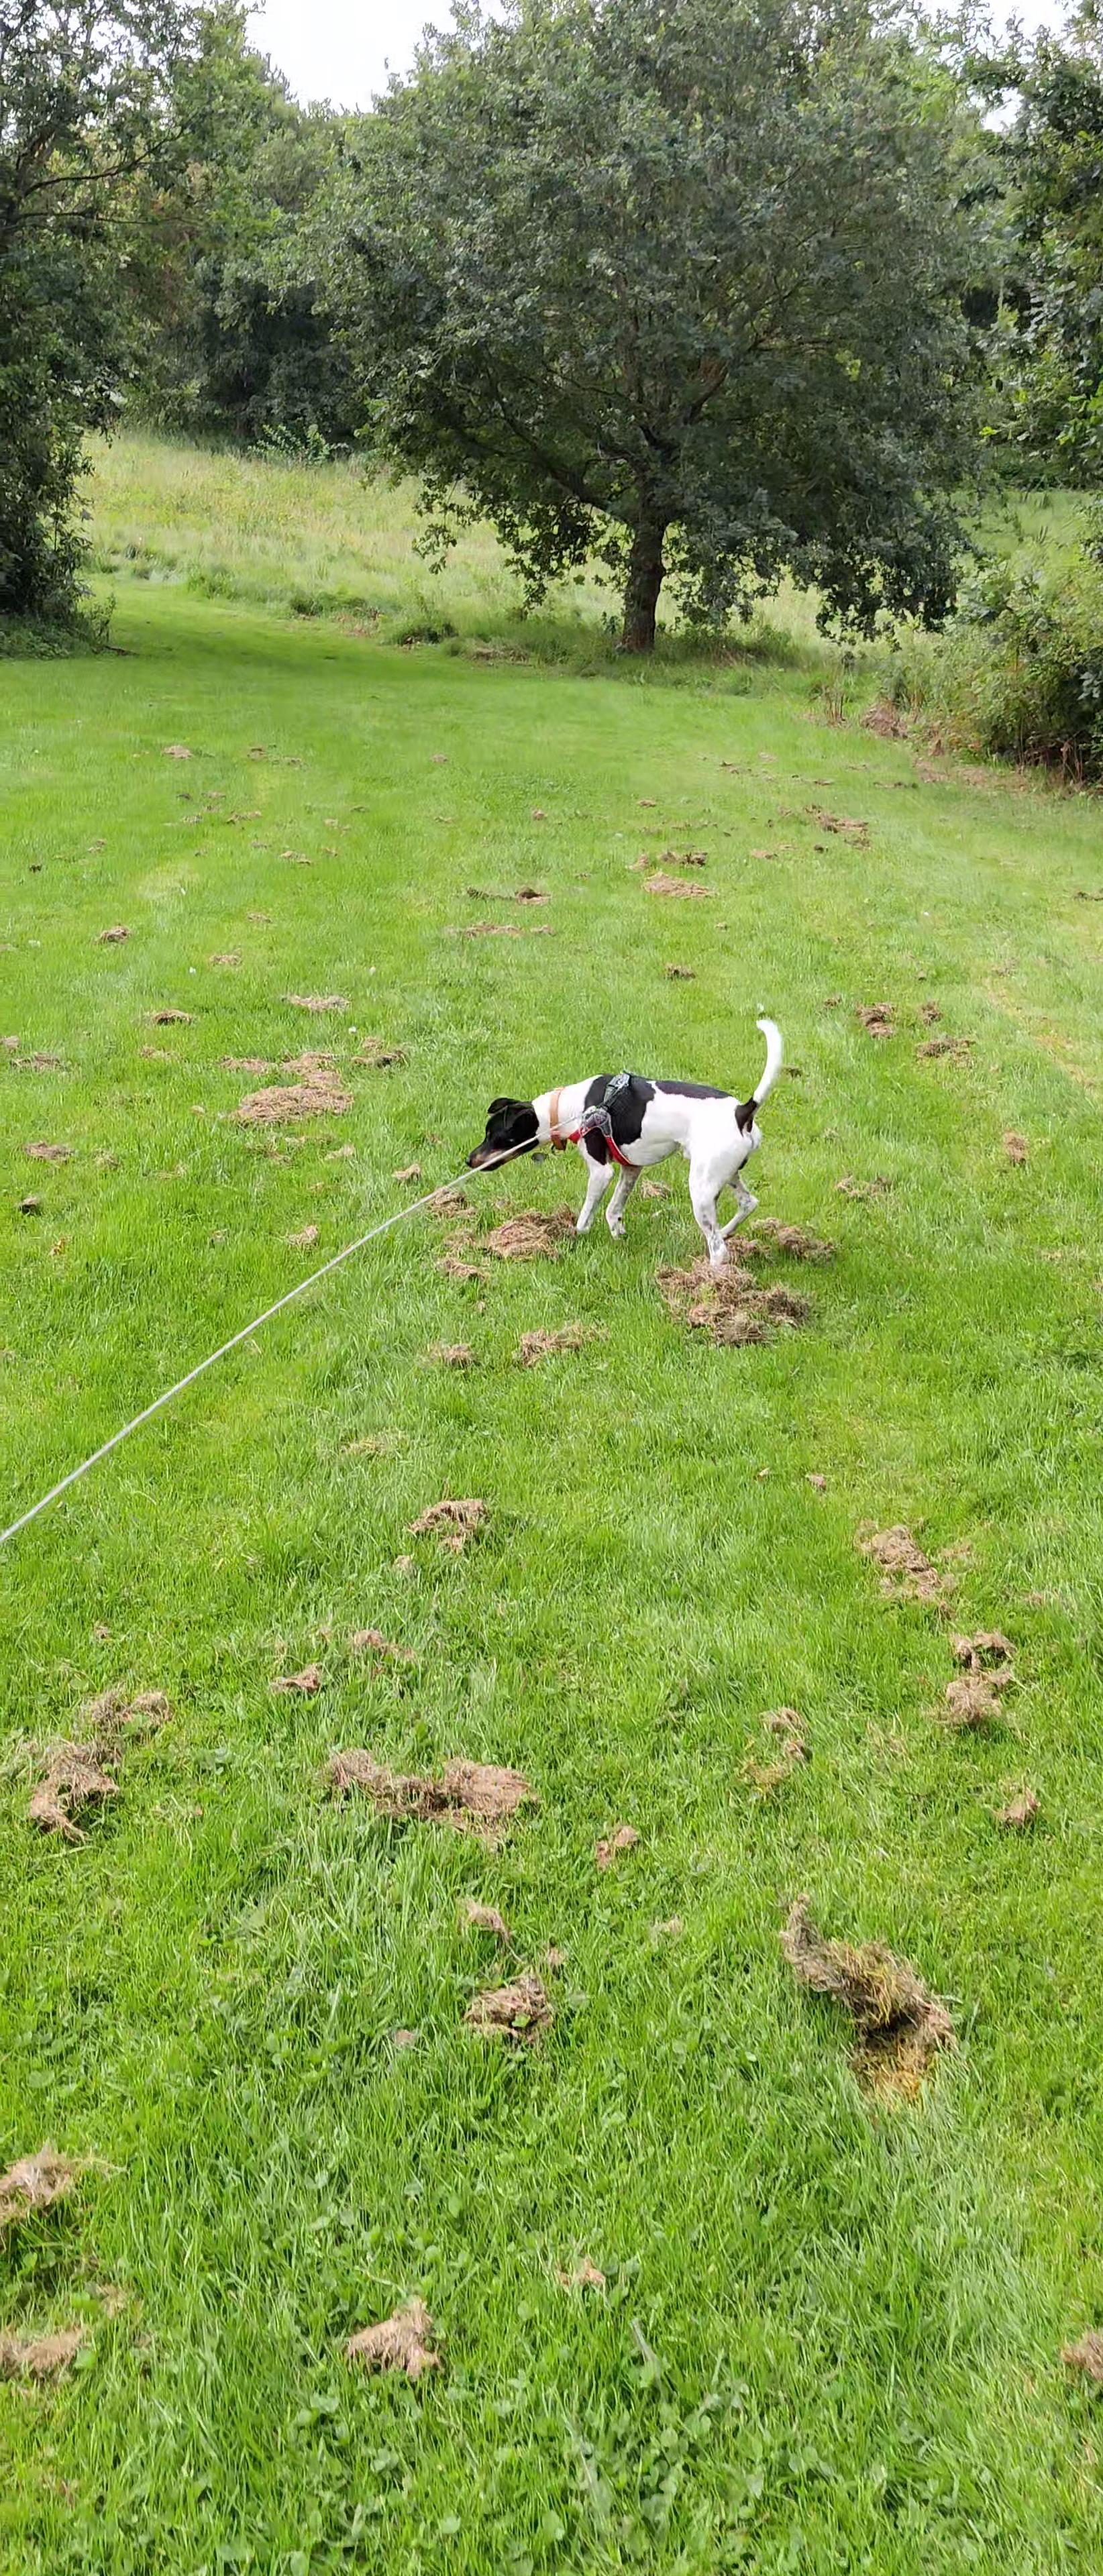Dog: (459, 1014, 791, 1273)
